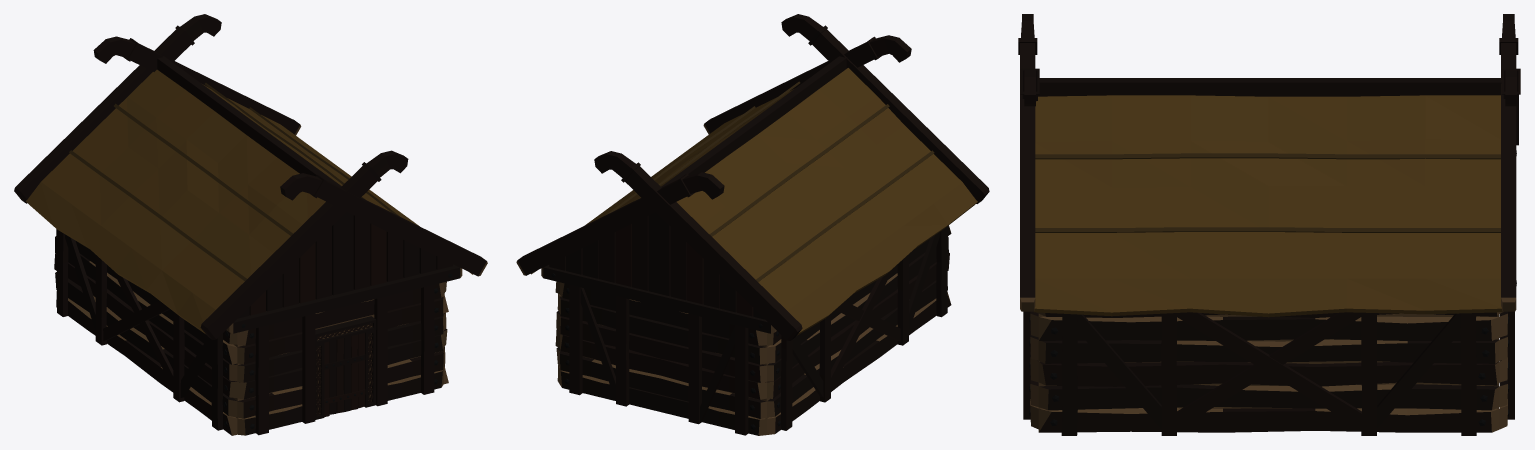
File: House.obj
The picture shows the model from 3 angles, left to right: view 1: azimuth 30°, elevation 25°; view 2: azimuth 150°, elevation 25°; view 3: azimuth 270°, elevation 25°; orthographic projection. The views are drawn at different scales.
Visible parts, largest first — view 1: House; view 2: House; view 3: House.
Boxes of the visible parts, x1,y1,x2,y2 form: House: [14, 14, 487, 435]; House: [516, 14, 989, 435]; House: [1018, 14, 1520, 435].
Bounding box in the file's own units: 5.45 × 4.58 × 6.54.
